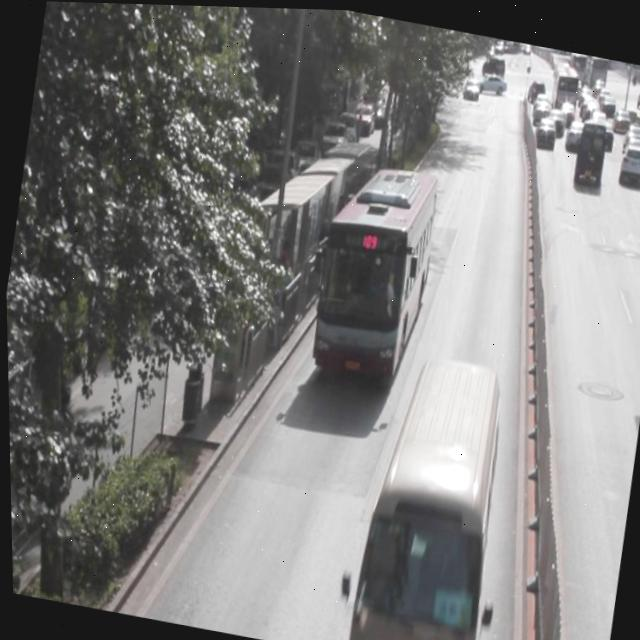truck: (336, 343, 513, 640)
van: (305, 155, 442, 378)
